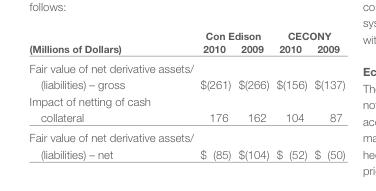table: (28, 29, 344, 159)
table column: (28, 29, 196, 159), (233, 29, 272, 159), (272, 29, 310, 159), (196, 29, 233, 159), (310, 29, 344, 159)
table column header: (28, 29, 344, 57)
table row: (28, 57, 344, 92), (28, 92, 344, 126), (28, 126, 344, 159), (28, 41, 344, 57), (28, 29, 344, 41)
table spanning cell: (28, 29, 196, 57), (196, 29, 272, 41), (272, 29, 344, 41)
